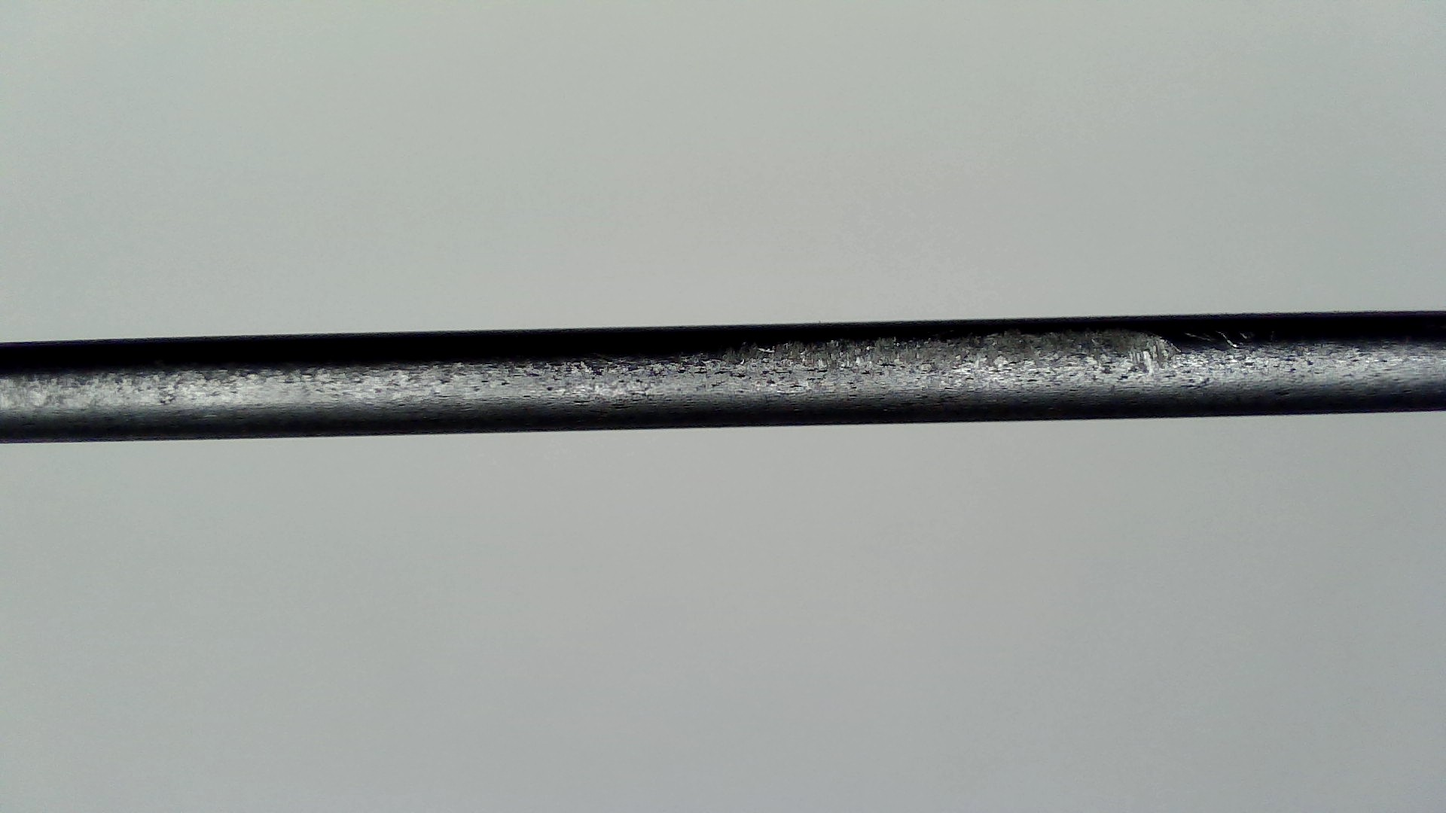defect: (968, 319, 1216, 384)
